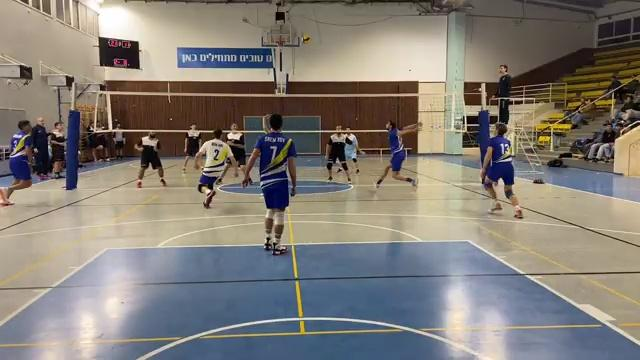ball: (300, 35, 316, 46)
